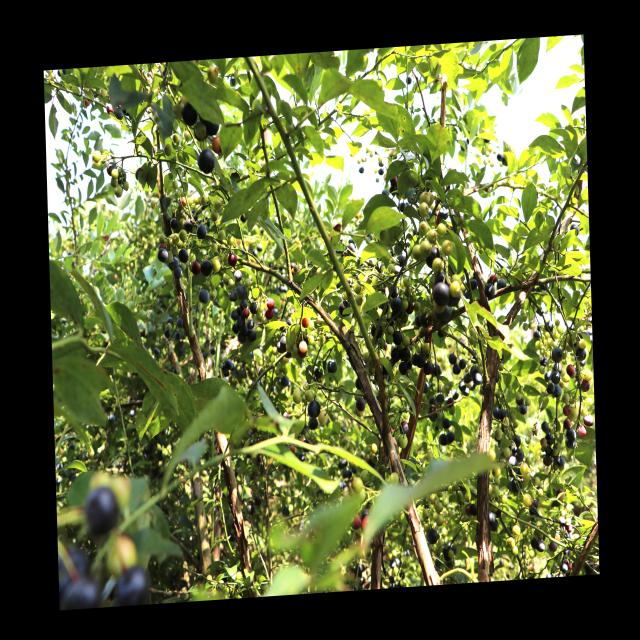blueberry: (84, 486, 119, 534), (198, 147, 215, 175), (181, 101, 199, 126), (203, 116, 220, 137), (424, 245, 441, 266), (433, 305, 452, 323), (434, 282, 448, 306), (307, 397, 320, 418), (509, 475, 522, 493), (426, 527, 439, 545), (484, 282, 496, 300), (197, 288, 210, 304), (552, 346, 564, 363), (200, 259, 212, 276), (370, 320, 380, 340), (392, 328, 403, 346), (177, 249, 190, 264), (575, 346, 587, 362), (106, 160, 118, 176), (390, 296, 402, 312), (414, 353, 426, 369), (336, 300, 348, 316), (167, 256, 179, 271), (197, 222, 207, 240), (401, 346, 412, 362), (507, 454, 517, 470), (114, 105, 124, 121), (445, 429, 454, 445), (157, 250, 169, 262), (390, 348, 399, 364), (328, 355, 336, 373), (496, 277, 507, 290), (422, 363, 433, 376), (544, 433, 554, 447), (514, 448, 524, 462), (551, 371, 561, 384), (552, 384, 562, 397), (173, 267, 183, 280), (184, 218, 194, 231), (248, 302, 258, 315), (308, 416, 316, 432), (546, 381, 555, 395), (438, 433, 447, 447), (355, 396, 364, 410), (566, 427, 576, 439), (535, 539, 545, 551), (398, 364, 408, 376), (473, 370, 481, 384), (229, 288, 237, 302), (548, 540, 557, 552), (170, 217, 179, 229), (390, 284, 399, 296), (542, 420, 550, 433), (566, 438, 576, 448), (519, 403, 527, 415), (470, 364, 478, 376), (459, 358, 467, 370), (448, 351, 456, 363), (442, 418, 450, 430), (248, 330, 256, 342), (237, 283, 244, 296), (556, 456, 565, 466), (452, 364, 461, 374), (239, 300, 249, 309), (224, 359, 233, 369), (463, 372, 471, 383), (231, 310, 238, 322), (470, 504, 478, 514), (237, 316, 245, 326), (487, 512, 494, 523), (241, 322, 248, 333), (238, 331, 245, 342), (458, 380, 464, 391), (248, 320, 254, 328)
blueberry-halfripe: (361, 516, 372, 534), (350, 513, 361, 530), (583, 412, 594, 428), (566, 363, 576, 377), (562, 404, 572, 417), (577, 424, 586, 438), (264, 308, 274, 320), (266, 297, 275, 310), (580, 380, 590, 391), (489, 272, 497, 284), (563, 418, 572, 428), (301, 317, 309, 328), (241, 308, 249, 318)
blueberry-unripe: (448, 280, 461, 297), (351, 477, 363, 494), (418, 202, 430, 218), (420, 239, 431, 256), (432, 258, 445, 272), (412, 242, 422, 260), (389, 472, 400, 487), (418, 220, 428, 236), (378, 228, 388, 244), (397, 435, 408, 449), (442, 240, 452, 255), (420, 190, 430, 204), (428, 228, 438, 242), (359, 470, 370, 482), (436, 222, 446, 235), (389, 417, 398, 428), (413, 300, 421, 312), (355, 294, 363, 306), (371, 275, 378, 288), (404, 276, 412, 287), (353, 283, 361, 294), (402, 298, 409, 310), (370, 443, 378, 453), (404, 287, 412, 297), (388, 263, 394, 274)
